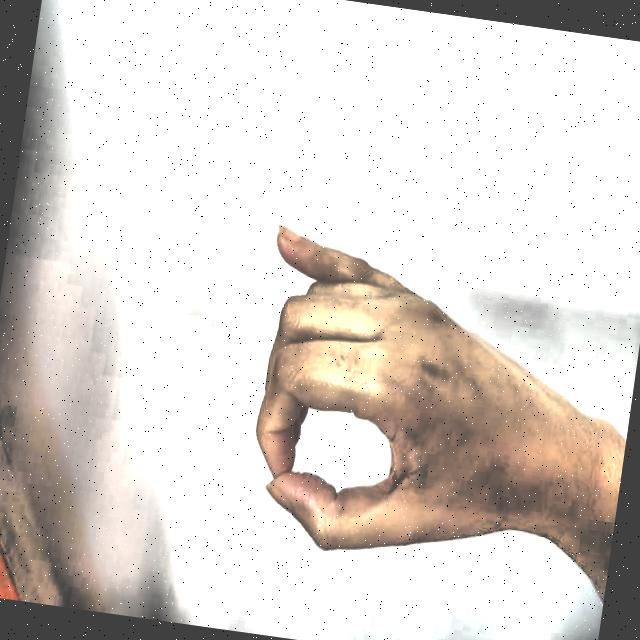Ou: (203, 183, 585, 608)
